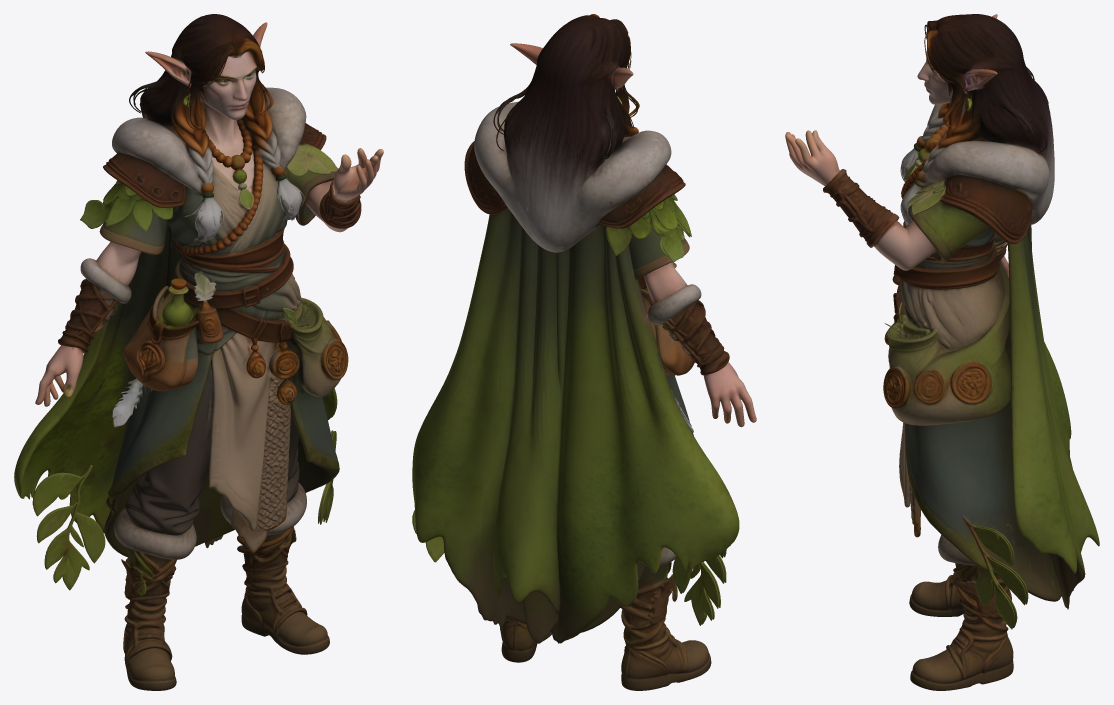
The model's file is half_elf_druid_full_female_01.glb.
3 renders of one model, left to right at view 1: azimuth 30°, elevation 25°; view 2: azimuth 150°, elevation 25°; view 3: azimuth 270°, elevation 25°, orthographic.
Visible parts, largest first — view 1: material; view 2: material; view 3: material.
Boxes of the visible parts, x1,y1,x2,y2 form: material: (14,14,383,690); material: (412,14,756,690); material: (785,14,1099,690).
Size of the model in its own units: 0.6021 by 1.14 by 0.5123.
1 material, 1 textured.
